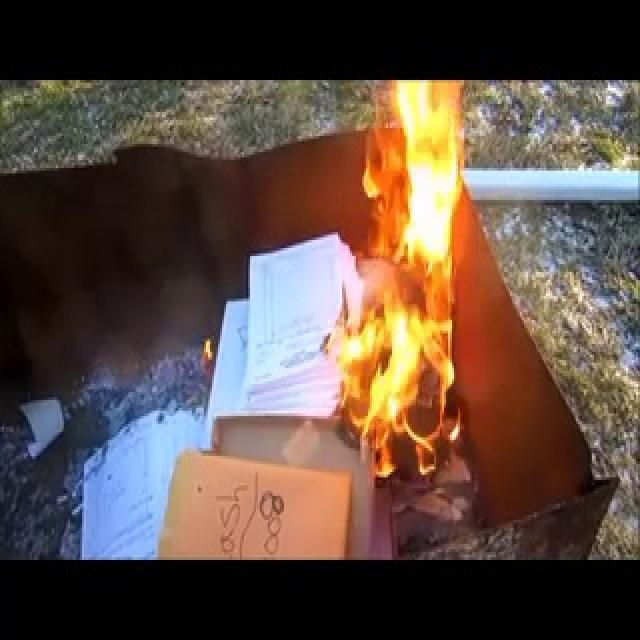Fire: (317, 77, 465, 480)
